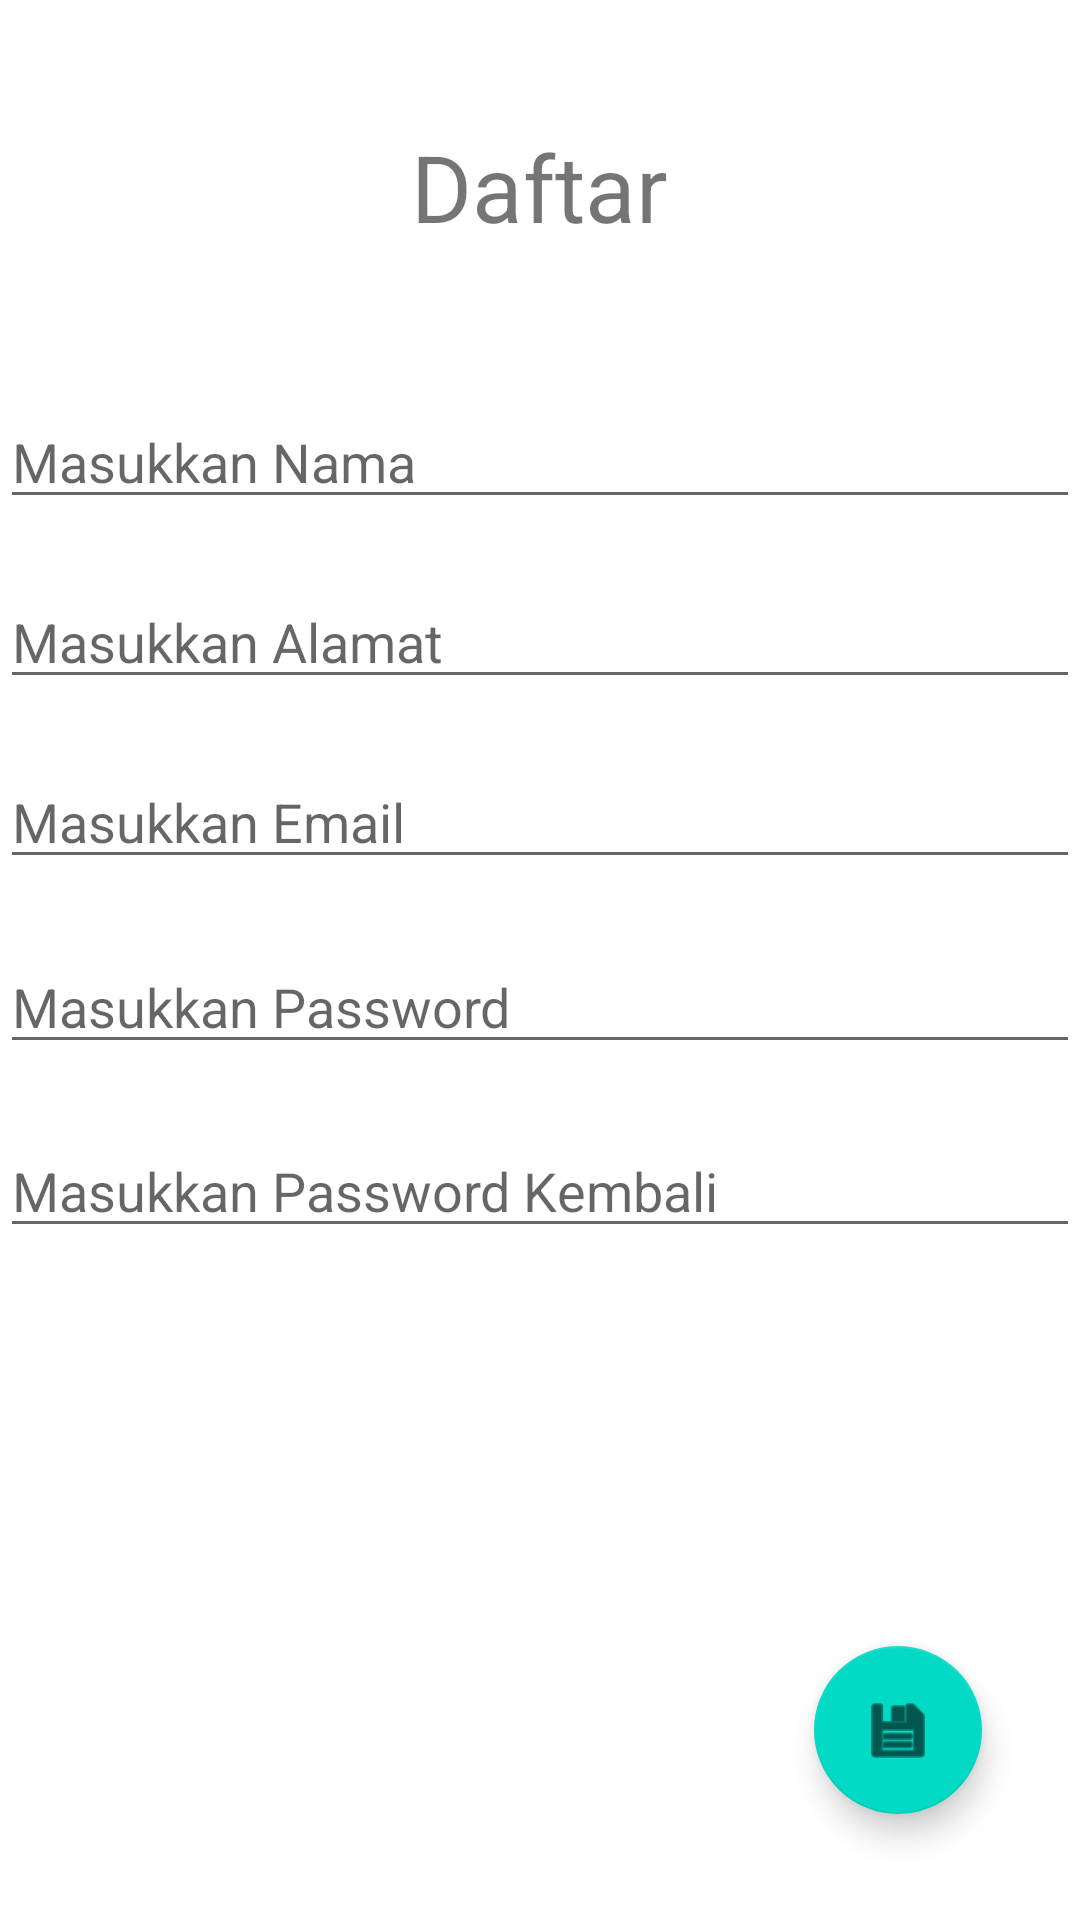

Screen size 1080w x 1920h. Icon name, then its center in pixels as point (x, y):
save: point (898, 1730)
